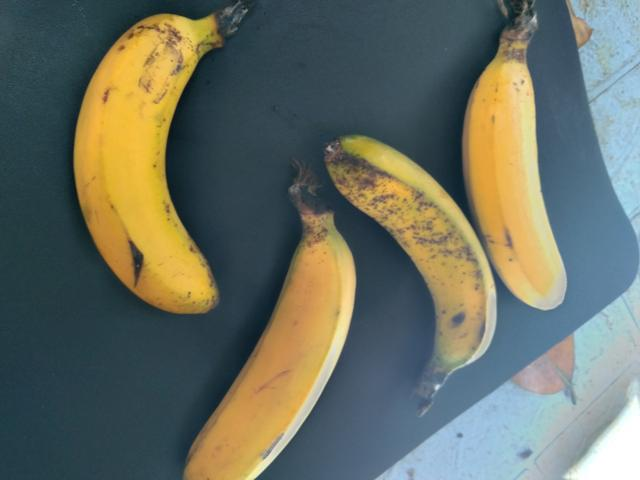freshripe: (179, 229, 363, 479), (455, 35, 624, 306)
ripe: (68, 6, 244, 323), (333, 123, 501, 393)
